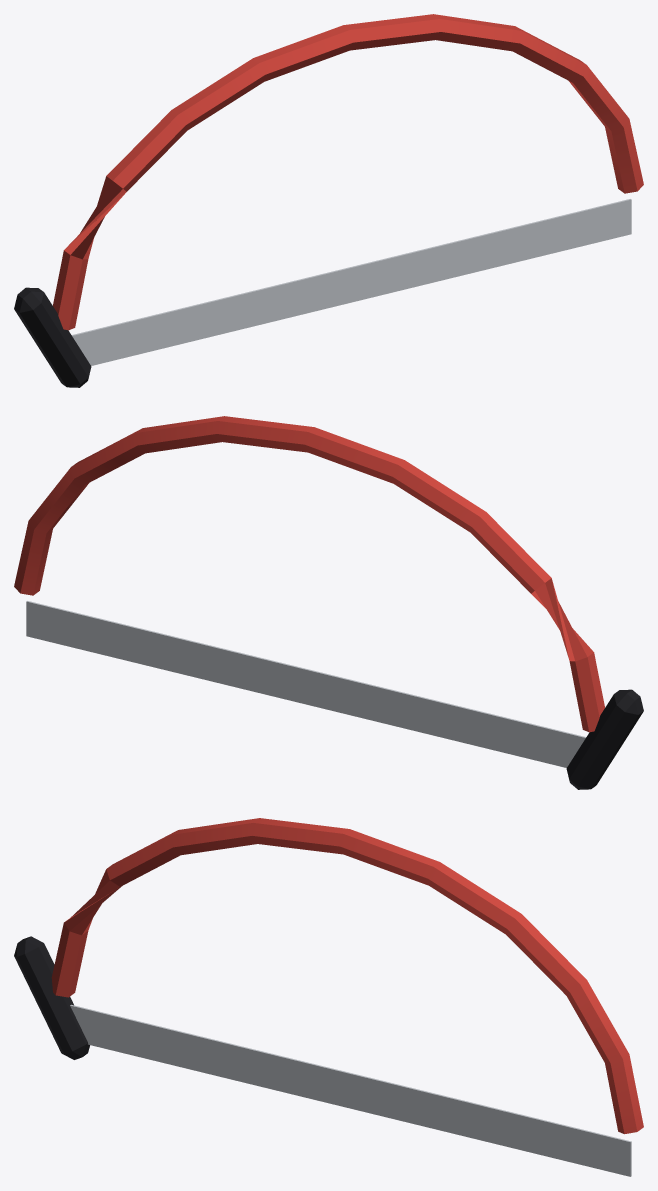
Rendered from SM_Bow_Saw.glb.
The picture shows the model from 3 angles, top to bottom: view 1: azimuth 30°, elevation 25°; view 2: azimuth 150°, elevation 25°; view 3: azimuth 330°, elevation 25°; orthographic projection.
Parts seen in each view (by area): view 1: SM_Bow_Saw; view 2: SM_Bow_Saw; view 3: SM_Bow_Saw.
Part boxes in pixels (bbox=[...]): SM_Bow_Saw: bbox=[14, 14, 643, 387]; SM_Bow_Saw: bbox=[14, 416, 643, 789]; SM_Bow_Saw: bbox=[14, 818, 643, 1176].
Size of the model in its own units: 0.6581 by 0.2949 by 0.03.
Materials: 1 (1 with a texture image).
